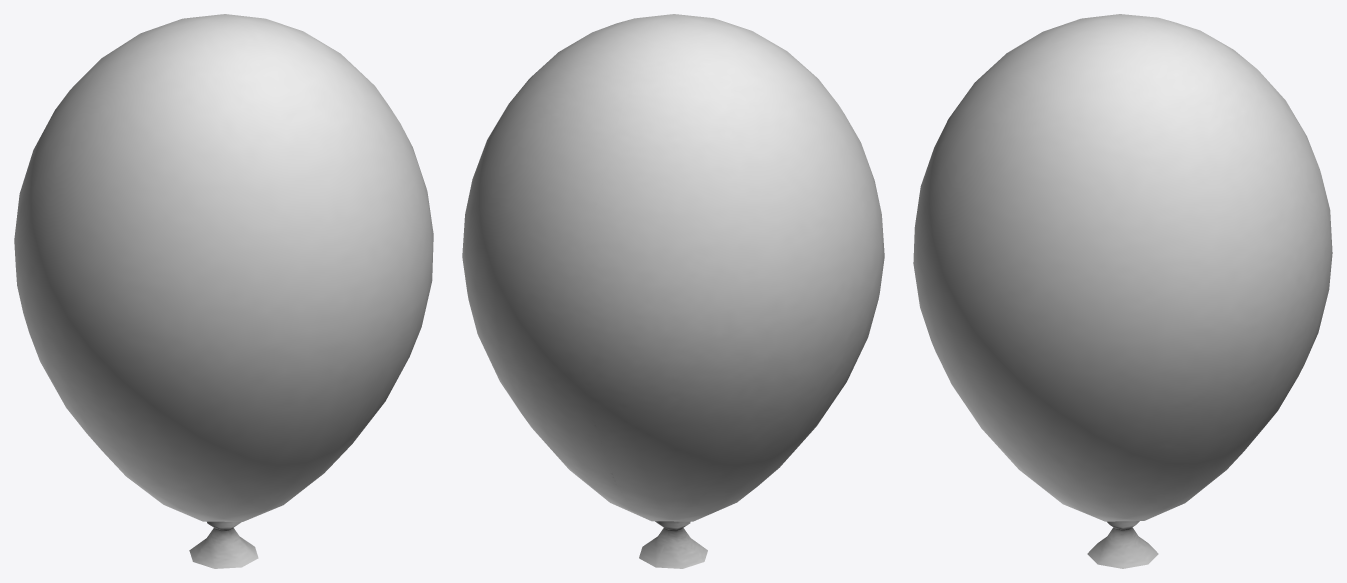
The model's file is balloon.obj.
3 renders of one model, left to right at view 1: azimuth 30°, elevation 25°; view 2: azimuth 150°, elevation 25°; view 3: azimuth 270°, elevation 25°, orthographic.
Visible parts, largest first — view 1: balloon_classic; view 2: balloon_classic; view 3: balloon_classic.
Boxes of the visible parts, box(x1,y1,x2,y2) form: balloon_classic: box(14, 14, 433, 568); balloon_classic: box(462, 14, 884, 568); balloon_classic: box(913, 14, 1332, 568).
Bounding box in the file's own units: 12.2 × 16.79 × 12.2.
